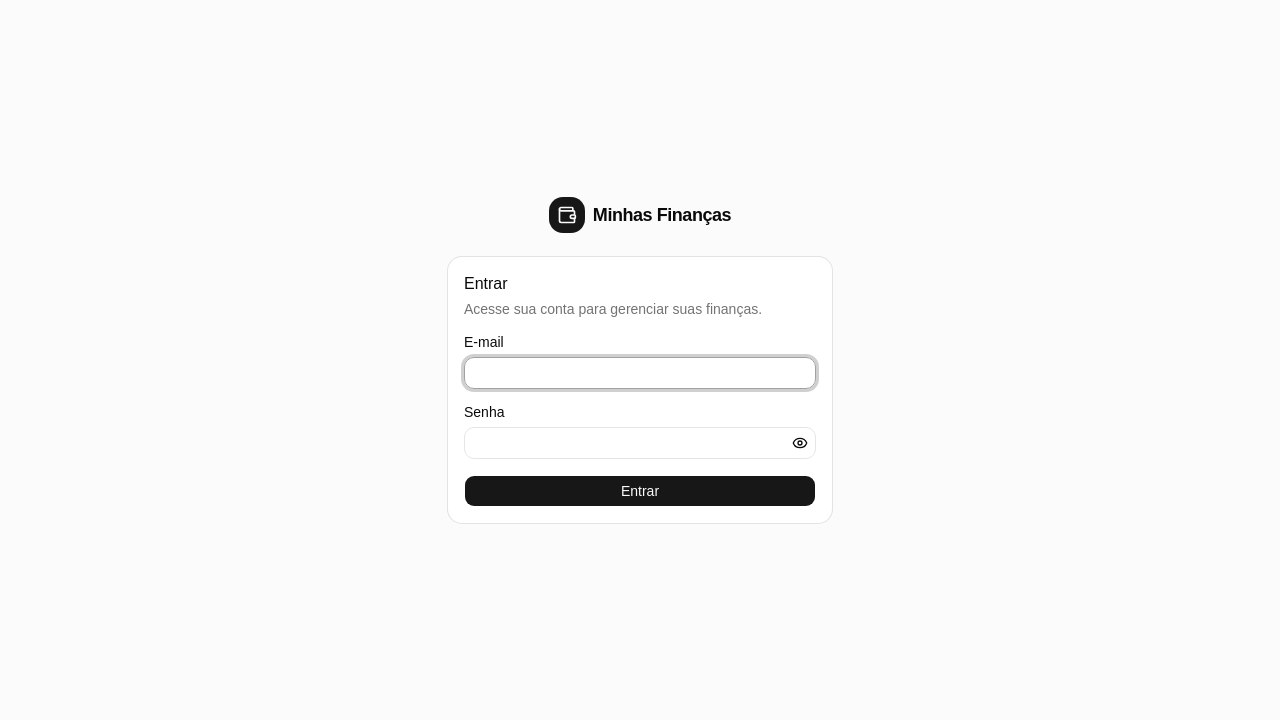
Test: Auth flow › sends credentials in the JSON body and redirects after login
Type "ana@example.com" into the field labelled "E-mail".
click(640, 373); type("ana@example.com")  # box [464,357,816,389]
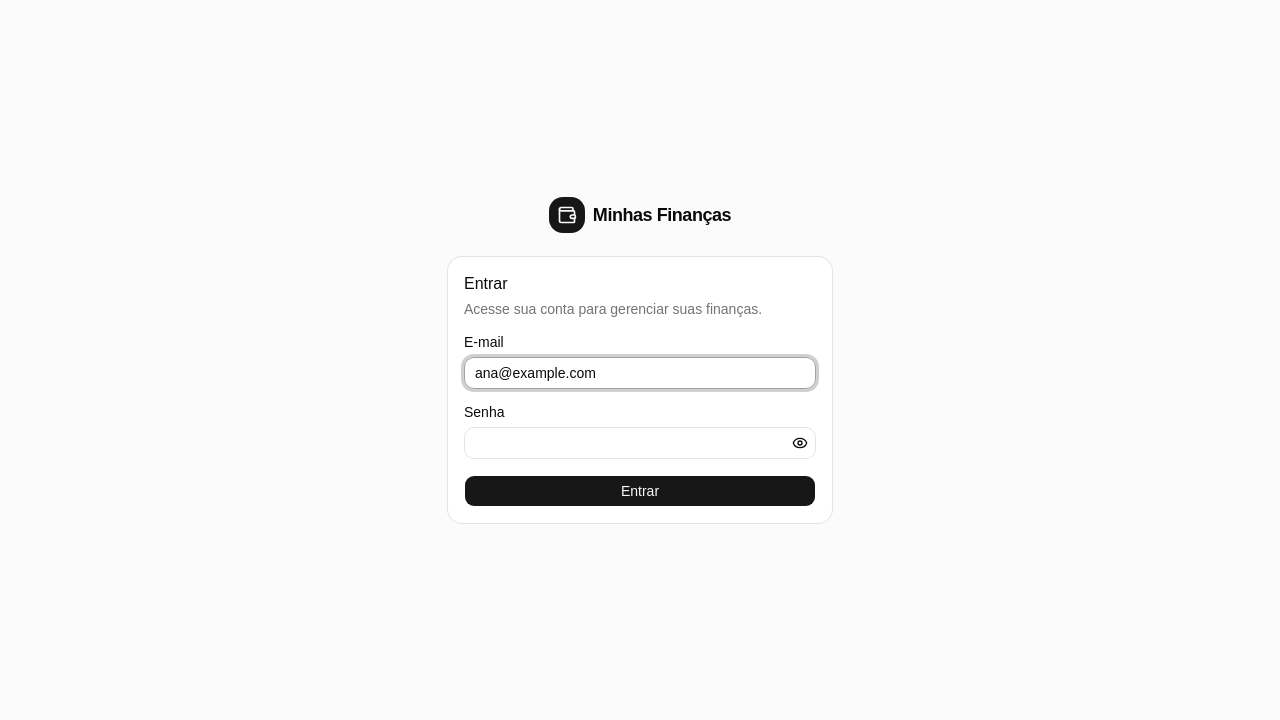
Type "secret" into the password field labelled "Senha".
click(640, 443); type("secret")  # box [464,427,816,459]
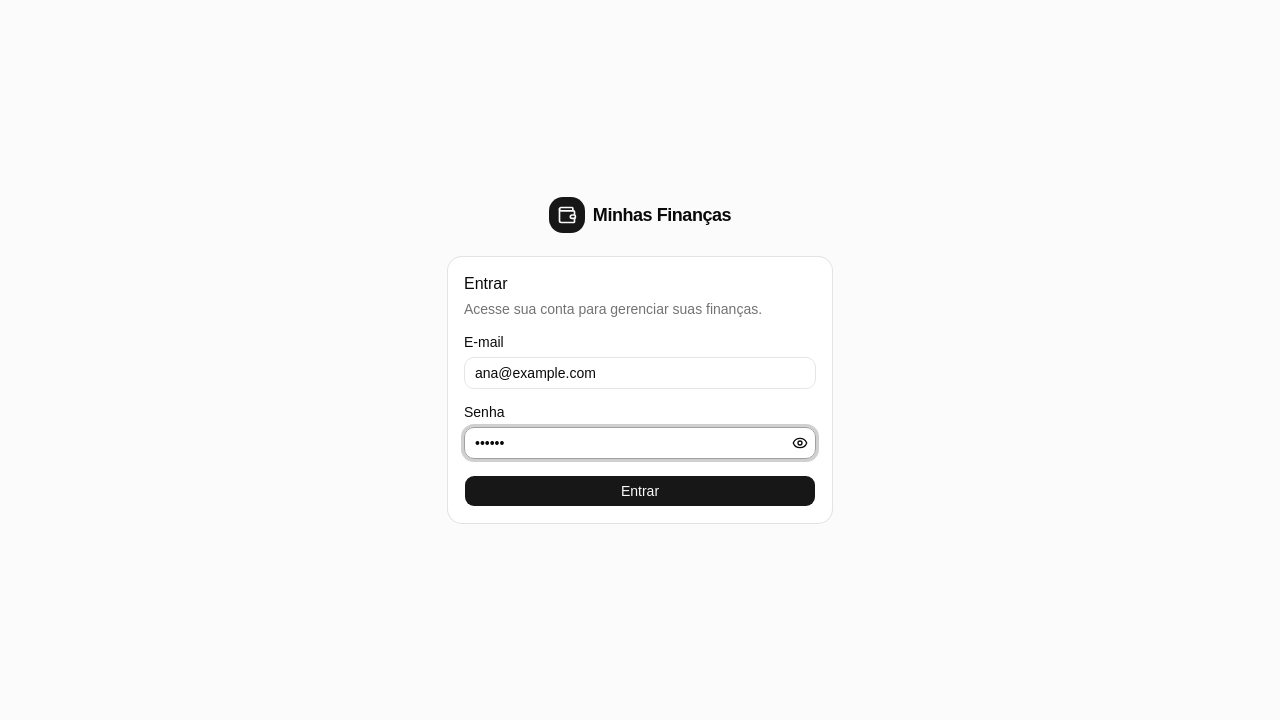
Click the button "Entrar".
click(640, 491)  # box [464,475,816,507]
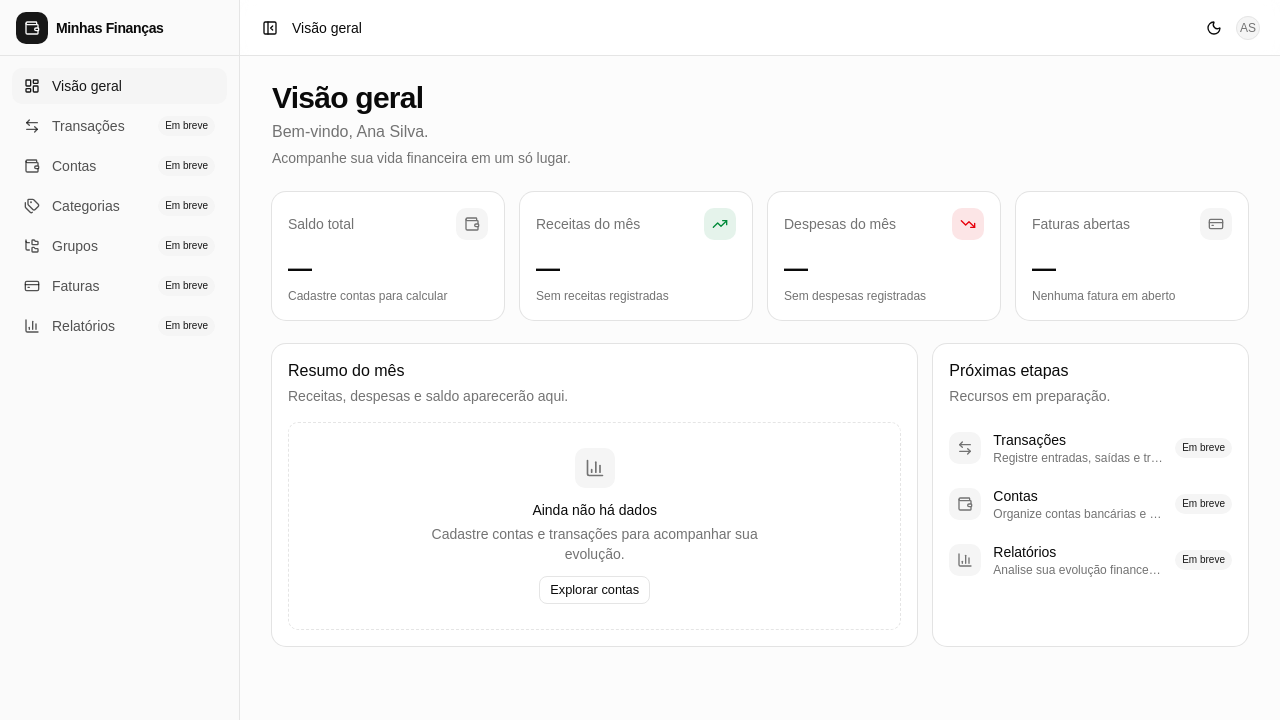
Expected: the heading "Visão geral" is shown, [272,81,423,114]
